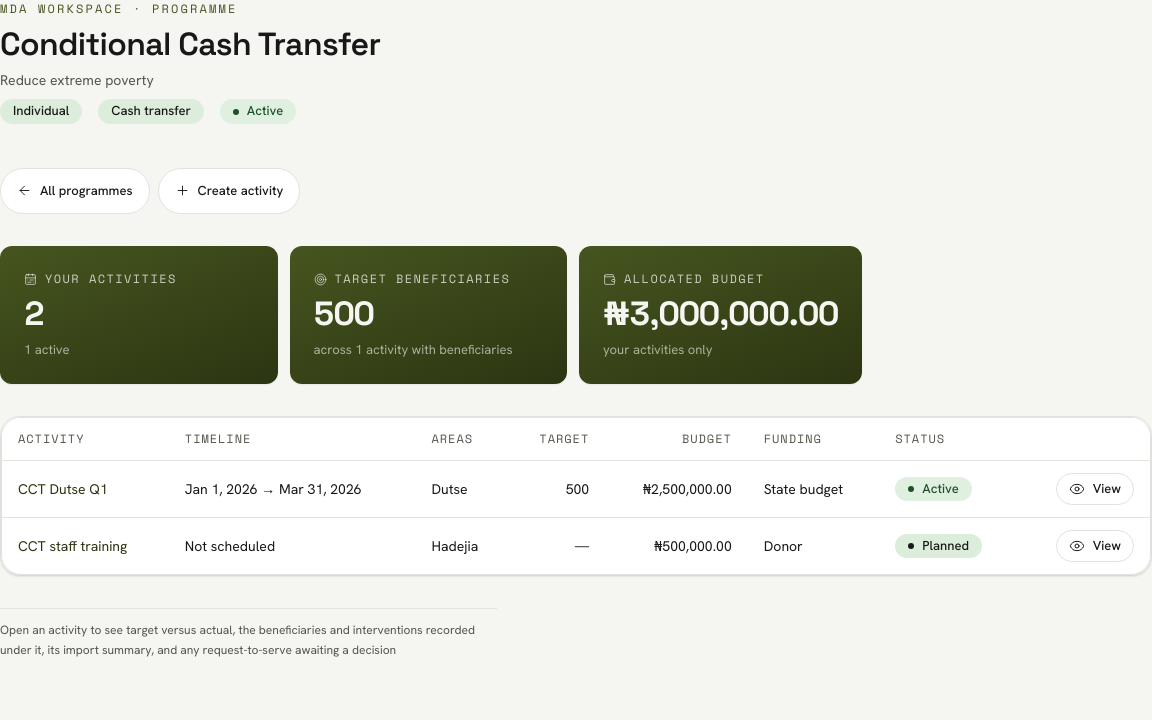
Test case: MDA console — Programmes › creates an activity in-context through the EXISTING wizard, programme pinned
Expected: the link "CCT Dutse Q1" is shown, left=18, top=480, right=108, bottom=498
Click the button "Create activity": click(229, 191) left=158, top=168, right=300, bottom=214
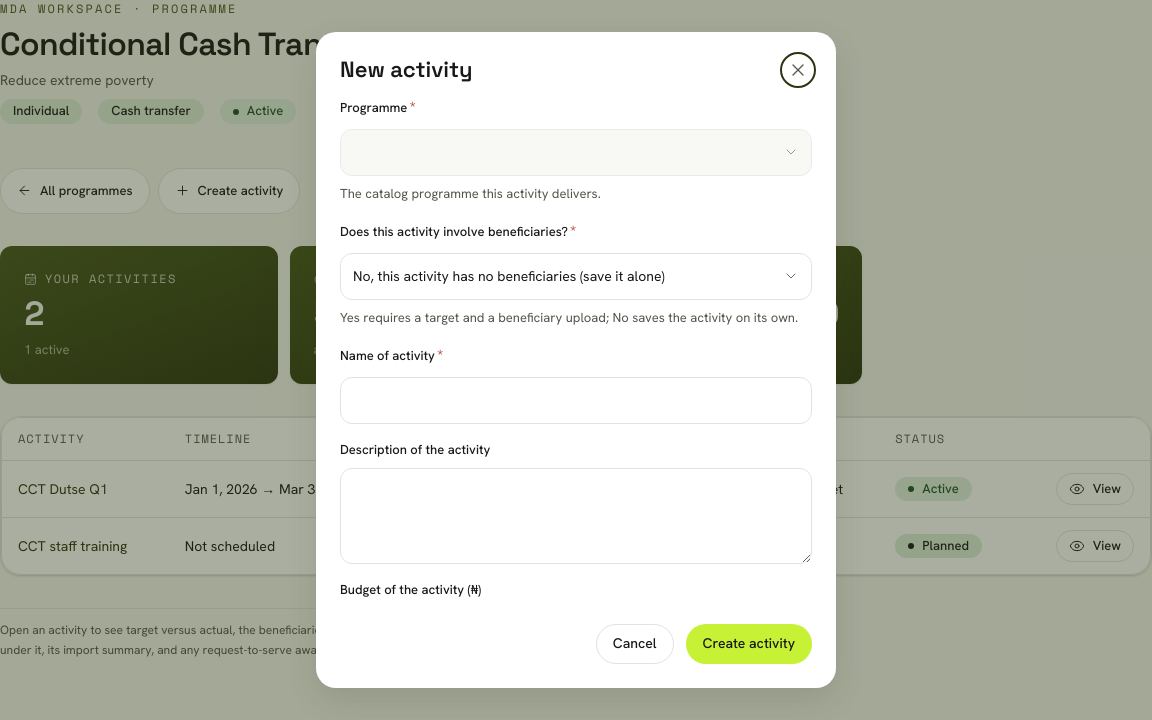
Expected: the dropdown labelled "Programme" is disabled, left=340, top=129, right=812, bottom=176
Expected: the dropdown labelled "Does this activity involve beneficiaries?" is shown, left=340, top=253, right=812, bottom=300
